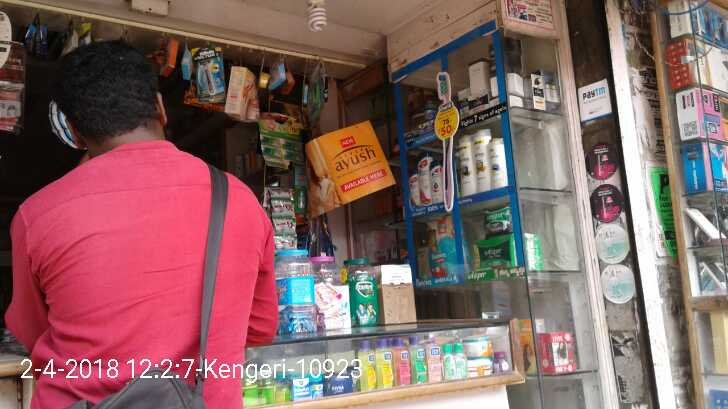vicks: (424, 100, 435, 120)
